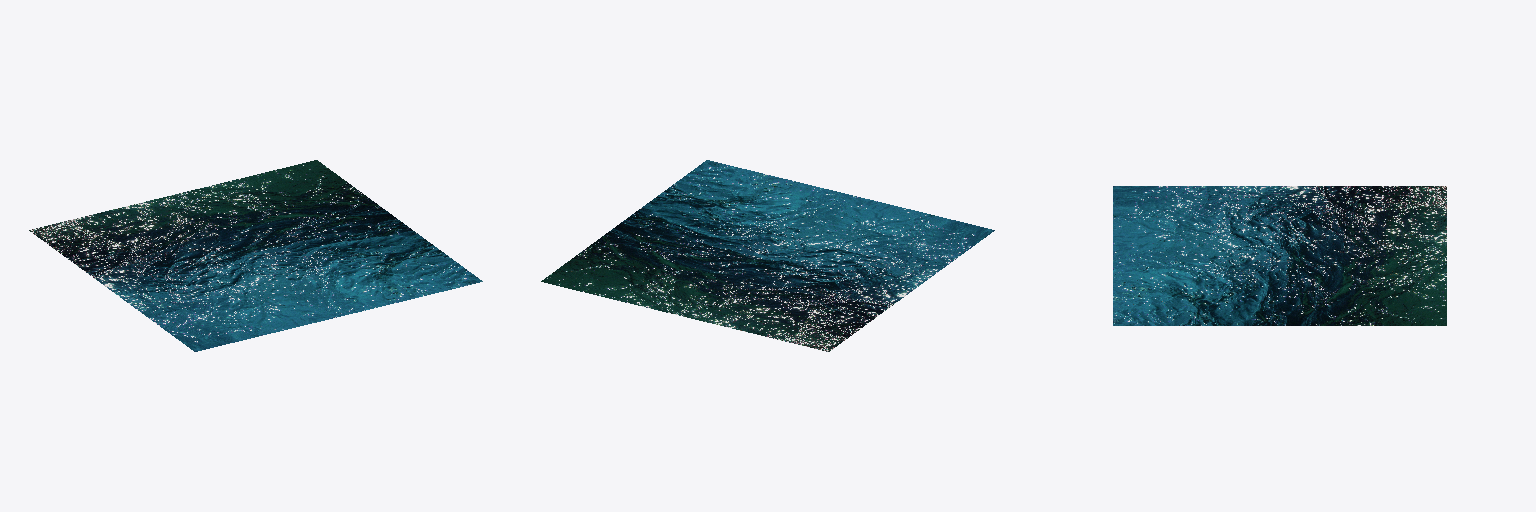
3 renders of one model, left to right at view 1: azimuth 30°, elevation 25°; view 2: azimuth 150°, elevation 25°; view 3: azimuth 270°, elevation 25°, orthographic.
Visible parts, largest first — view 1: Plane; view 2: Plane; view 3: Plane.
Boxes of the visible parts, <box> form: Plane: <box>29,160,482,351</box>; Plane: <box>541,160,994,351</box>; Plane: <box>1113,186,1446,325</box>.
Bounding box in the file's own units: 4 × 0 × 4.
Materials: 1 (1 with a texture image).